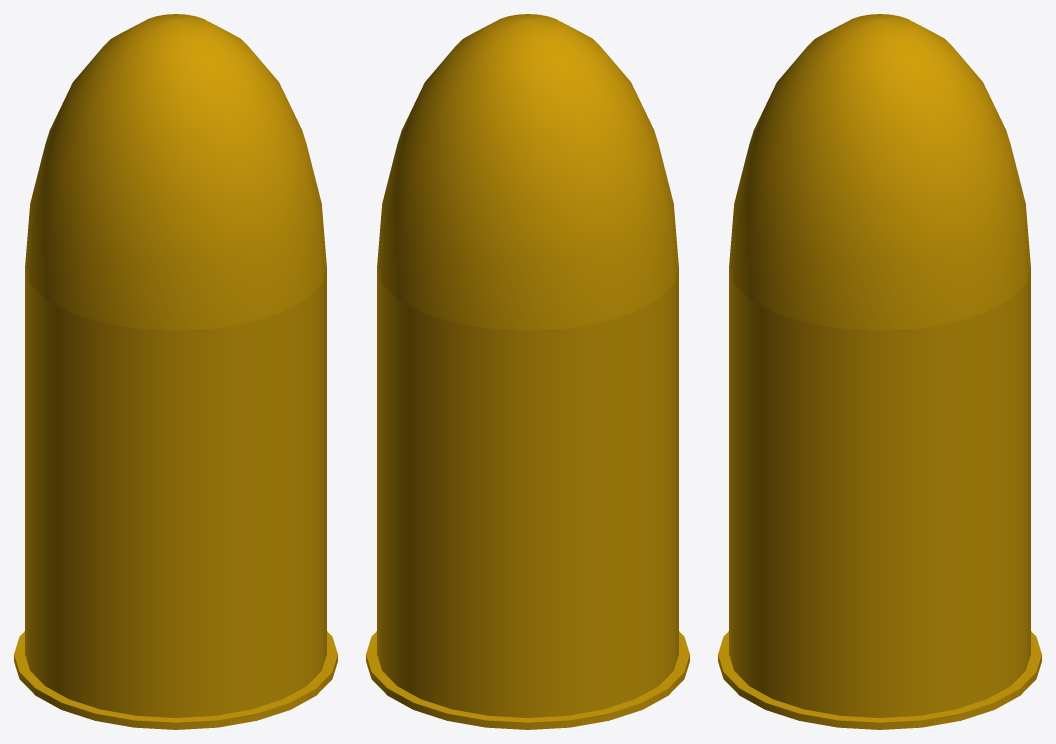
The picture shows the model from 3 angles, left to right: view 1: azimuth 30°, elevation 25°; view 2: azimuth 150°, elevation 25°; view 3: azimuth 270°, elevation 25°; orthographic projection.
Parts seen in each view (by area): view 1: SketchUp (×2); view 2: SketchUp (×2); view 3: SketchUp (×2).
Part boxes in pixels (x1,y1,x2,y2): SketchUp (×2): [14, 14, 337, 729]; SketchUp (×2): [366, 14, 689, 729]; SketchUp (×2): [718, 14, 1041, 729].
Size of the model in its own units: 154 by 154 by 336.
